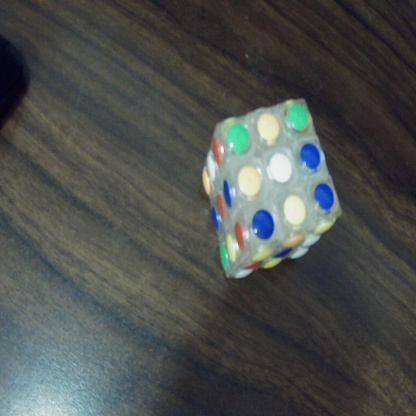Rubix Cube: (202, 96, 343, 288)
